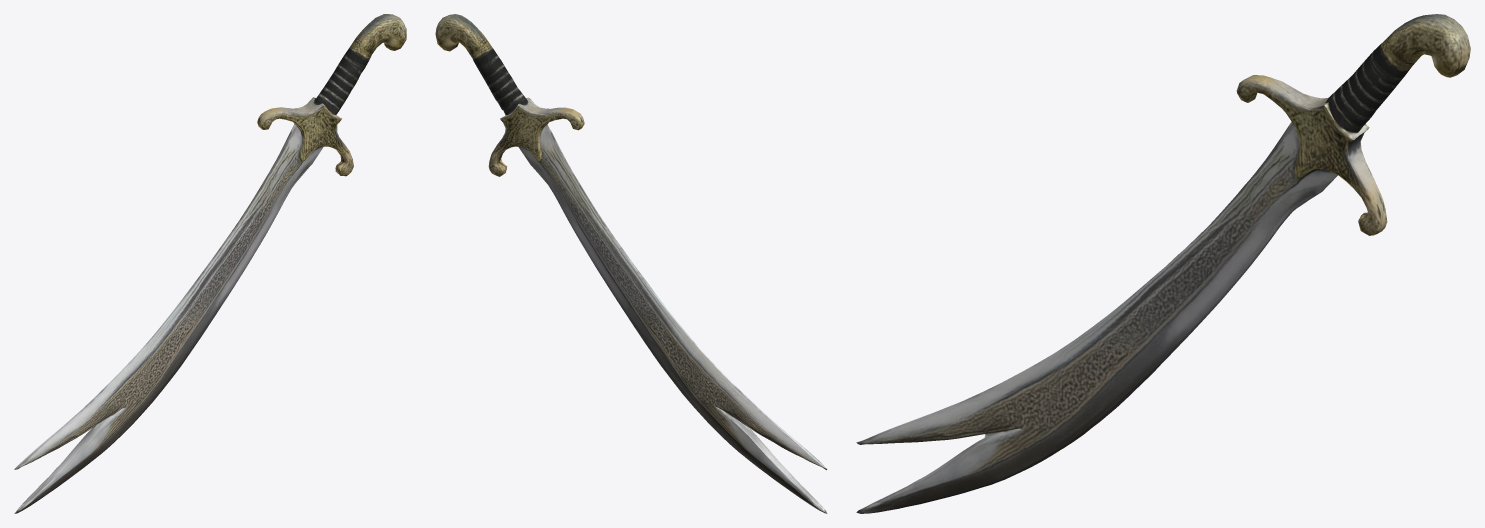
Rendered from zulfiqar.glb.
3 renders of one model, left to right at view 1: azimuth 30°, elevation 25°; view 2: azimuth 150°, elevation 25°; view 3: azimuth 330°, elevation 25°, orthographic. The views are drawn at different scales.
Parts seen in each view (by area): view 1: geom0; view 2: geom0; view 3: geom0.
Boxes of the visible parts, x1,y1,x2,y2 form: geom0: (14, 14, 406, 513); geom0: (435, 14, 827, 513); geom0: (856, 14, 1470, 513).
Size of the model in its own units: 1 by 1 by 0.0499.
Materials: 1 (1 with a texture image).
